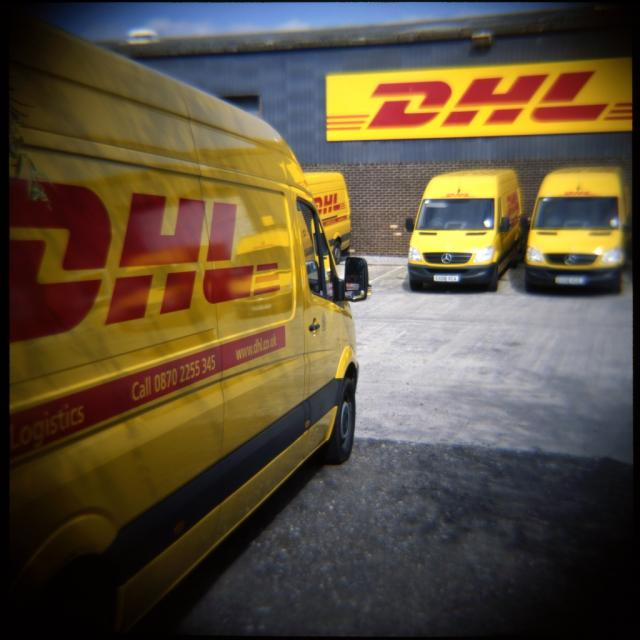dhl: (2, 170, 289, 355), (328, 67, 633, 136), (312, 190, 352, 217), (562, 191, 597, 198), (439, 193, 474, 199)
